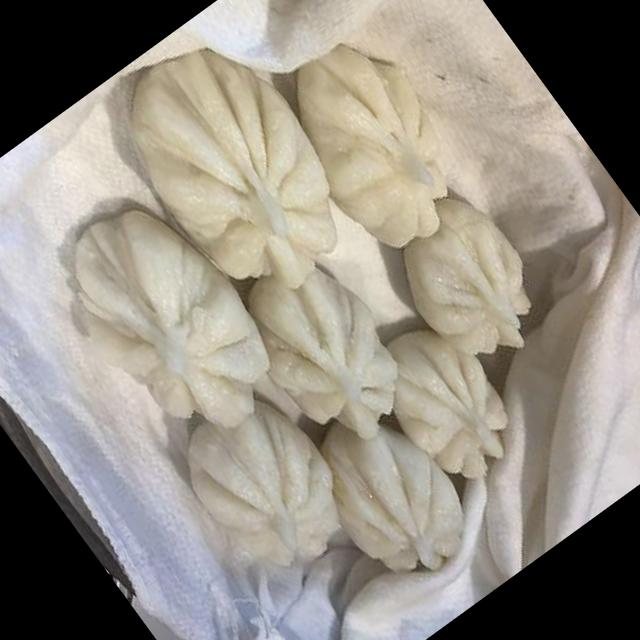modak: (109, 32, 378, 324), (32, 175, 296, 462), (256, 21, 492, 284), (162, 382, 375, 607), (366, 172, 574, 398), (230, 255, 434, 478), (292, 398, 492, 608), (363, 314, 543, 508)
